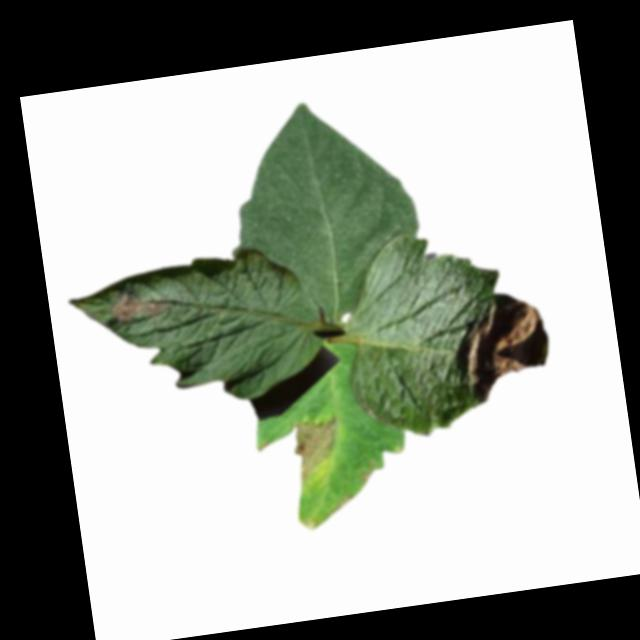Late_blight: (444, 287, 555, 406), (283, 414, 346, 484), (108, 281, 177, 328)
healthy: (214, 87, 432, 334)
